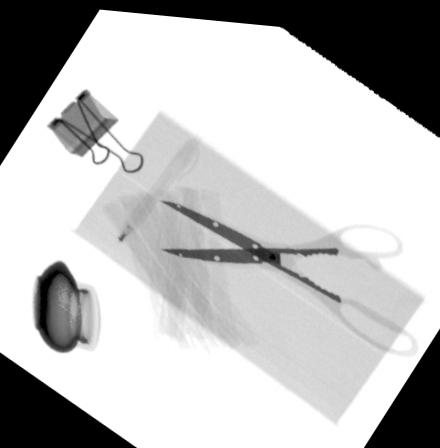Scissors: (158, 197, 416, 346)
